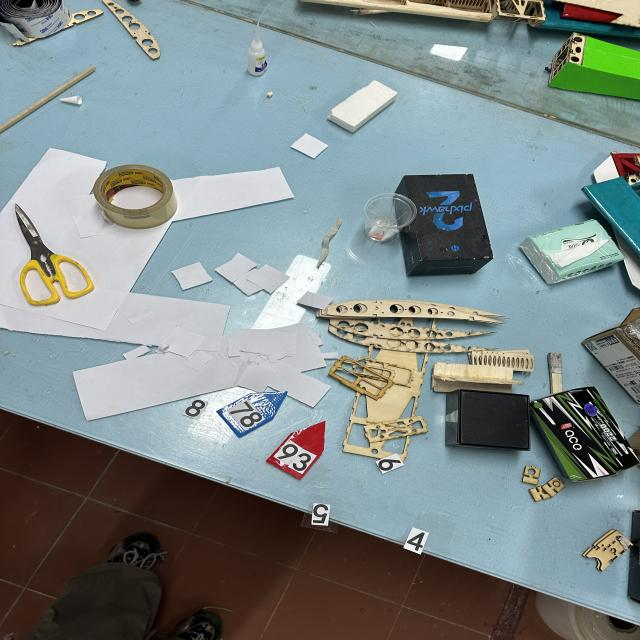board: (264, 421, 327, 483), (215, 392, 289, 440)
